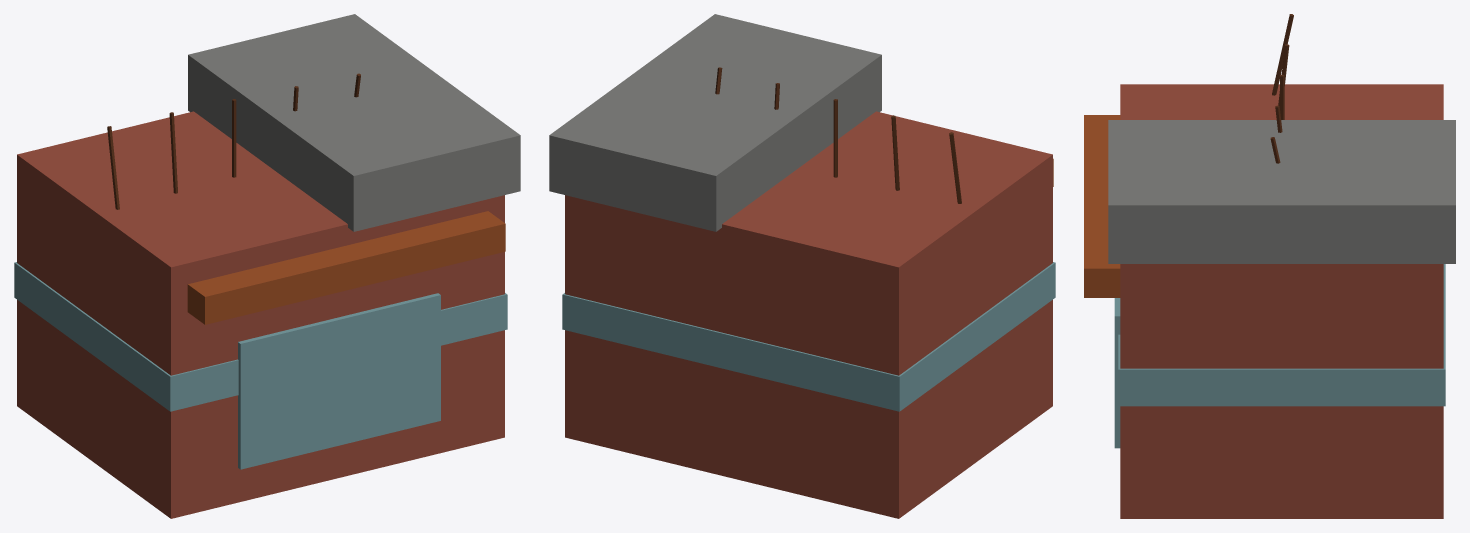
File: ruined_shop.glb
3 renders of one model, left to right at view 1: azimuth 30°, elevation 25°; view 2: azimuth 150°, elevation 25°; view 3: azimuth 270°, elevation 25°, orthographic. The views are drawn at different scales.
Visible parts, largest first — view 1: ruined_shop; view 2: ruined_shop; view 3: ruined_shop.
Part boxes in pixels (left/top/right/bottom): ruined_shop: left=14, top=14, right=520, bottom=518; ruined_shop: left=549, top=14, right=1055, bottom=518; ruined_shop: left=1084, top=14, right=1455, bottom=518.
Size of the model in its own units: 5.18 by 4.7 by 4.6.
